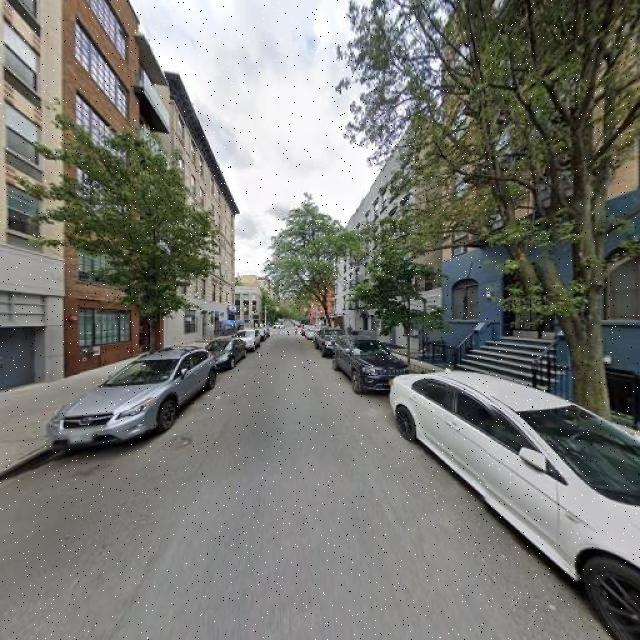Building: (445, 1, 640, 409), (65, 1, 159, 375), (1, 1, 59, 393), (163, 74, 232, 350), (337, 125, 413, 352)
